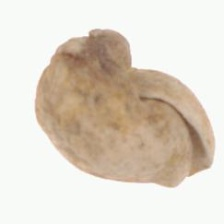L1: (166, 144, 214, 189)
L2: (33, 28, 216, 188)
